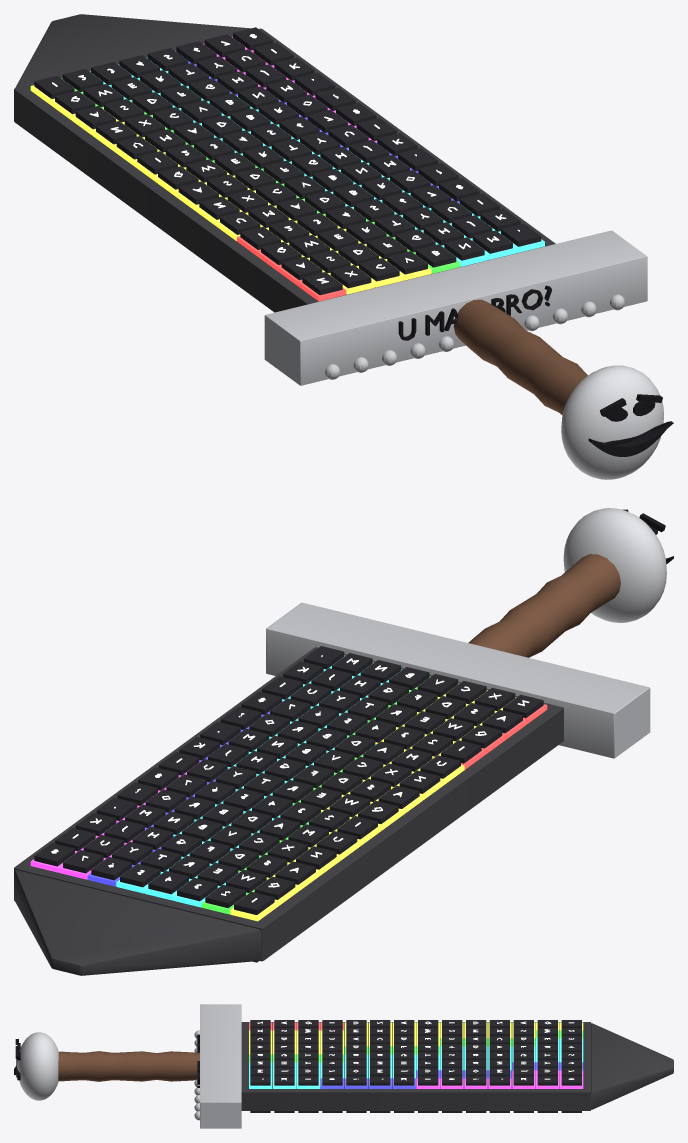
Rendered from keyboard_sword.glb.
3 renders of one model, top to bottom at view 1: azimuth 30°, elevation 25°; view 2: azimuth 150°, elevation 25°; view 3: azimuth 270°, elevation 25°, orthographic. The views are drawn at different scales.
Parts seen in each view (by area): view 1: KeyboardSword; view 2: KeyboardSword; view 3: KeyboardSword.
Part boxes in pixels (box(x1,y1,x2,y2)): KeyboardSword: box(14, 14, 673, 479); KeyboardSword: box(14, 508, 673, 975); KeyboardSword: box(14, 1004, 673, 1128).
Bounding box in the file's own units: 0.42 × 0.1254 × 1.19.
